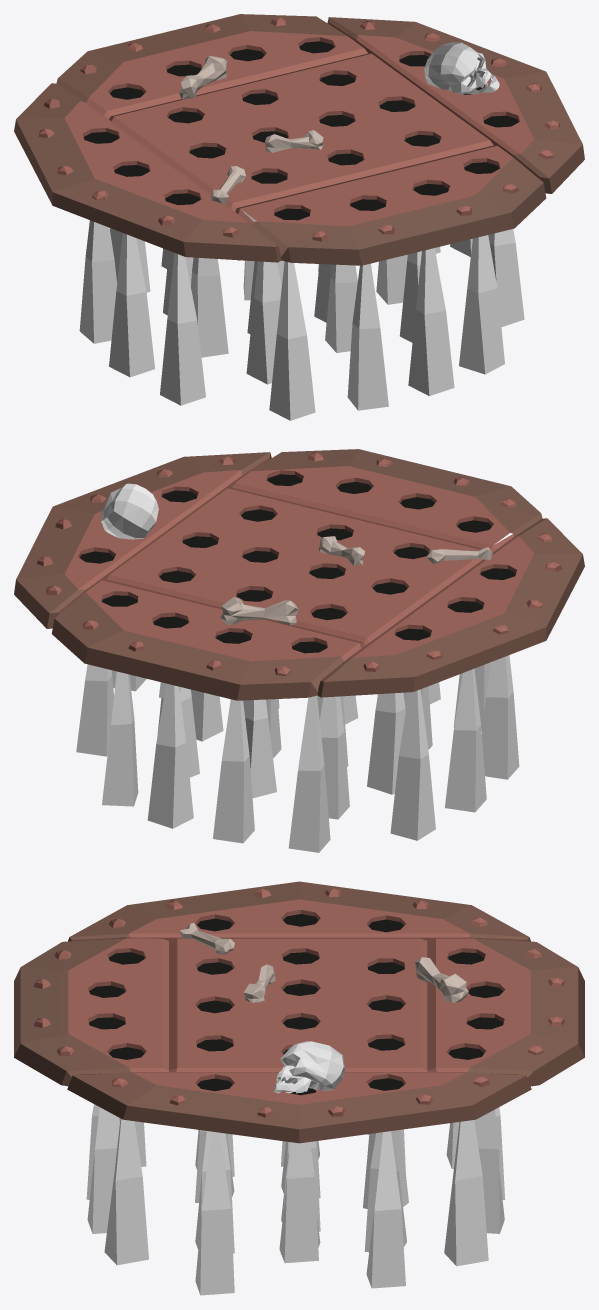
The model's file is spikeTrap.fbx.
3 renders of one model, top to bottom at view 1: azimuth 30°, elevation 25°; view 2: azimuth 150°, elevation 25°; view 3: azimuth 270°, elevation 25°, orthographic. The views are drawn at different scales.
Parts seen in each view (by area): view 1: spikeTrapBase, spikeTrapMain; view 2: spikeTrapBase, spikeTrapMain; view 3: spikeTrapBase, spikeTrapMain.
Part boxes in pixels (left/top/right/bottom): spikeTrapBase: left=14, top=14, right=584, bottom=265; spikeTrapMain: left=79, top=42, right=524, bottom=420; spikeTrapBase: left=14, top=449, right=584, bottom=700; spikeTrapMain: left=76, top=483, right=519, bottom=852; spikeTrapBase: left=14, top=881, right=584, bottom=1143; spikeTrapMain: left=86, top=1041, right=505, bottom=1295.
Bounding box in the file's own units: 4.35 × 2.02 × 4.24.
1 material, 1 textured.
